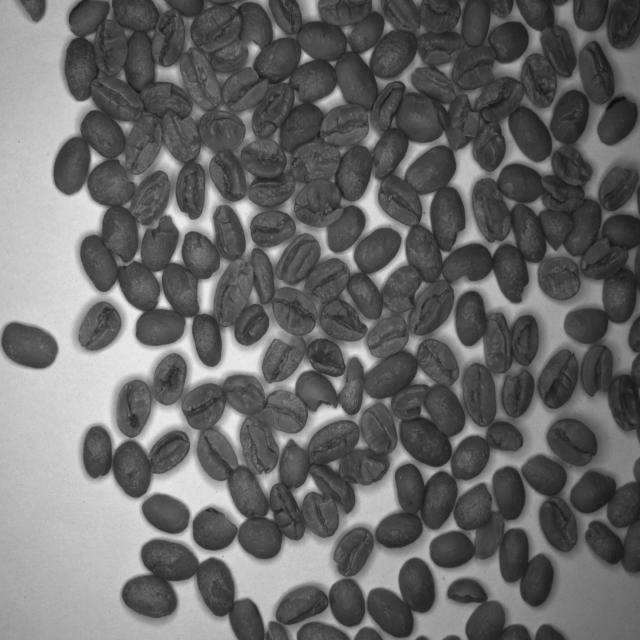bad: (469, 175, 514, 246), (212, 256, 255, 328), (178, 46, 222, 112), (396, 90, 450, 143), (407, 279, 456, 336), (535, 346, 579, 409), (90, 74, 145, 124), (575, 38, 615, 106), (308, 460, 356, 516), (429, 184, 467, 254), (293, 176, 345, 227), (238, 414, 280, 477), (188, 6, 243, 54), (254, 387, 310, 434), (218, 64, 269, 115), (376, 173, 423, 228), (474, 74, 525, 124), (86, 157, 136, 208), (461, 361, 499, 428), (124, 113, 165, 175), (274, 232, 321, 286), (116, 258, 162, 313), (537, 495, 579, 555), (270, 284, 318, 336), (279, 100, 325, 154), (415, 335, 461, 389), (251, 81, 295, 137), (319, 294, 368, 344), (308, 419, 360, 466), (129, 168, 171, 226), (160, 261, 202, 319), (492, 242, 530, 306), (289, 141, 342, 186), (139, 214, 180, 272), (77, 300, 121, 354), (101, 203, 139, 265), (116, 378, 154, 440), (318, 103, 370, 148), (578, 237, 630, 282), (331, 526, 376, 578), (196, 428, 239, 482), (550, 86, 590, 144), (304, 256, 351, 305), (197, 107, 247, 153), (269, 481, 306, 543), (520, 50, 558, 110), (159, 109, 201, 163), (596, 94, 638, 148), (360, 400, 399, 458), (536, 254, 583, 302), (192, 505, 238, 554), (261, 334, 306, 384), (140, 80, 193, 122), (569, 468, 617, 514), (288, 60, 337, 105), (538, 23, 578, 78), (180, 228, 221, 281), (441, 242, 494, 283), (520, 451, 567, 497), (370, 126, 410, 180), (212, 203, 248, 263), (275, 584, 329, 624), (381, 263, 424, 313), (369, 78, 406, 136), (597, 163, 639, 214), (136, 306, 187, 348), (453, 288, 488, 349), (338, 448, 391, 488), (549, 143, 595, 189), (92, 19, 128, 77), (151, 351, 188, 407), (148, 428, 192, 475), (208, 149, 247, 202), (607, 372, 640, 434), (470, 119, 507, 174), (451, 46, 497, 90), (326, 204, 367, 253), (446, 92, 480, 151), (300, 490, 340, 540), (483, 310, 514, 374), (366, 313, 410, 358), (500, 368, 538, 420), (409, 64, 456, 106), (538, 172, 586, 213), (249, 208, 298, 248), (453, 482, 493, 531), (222, 372, 266, 416), (174, 160, 206, 220), (584, 518, 624, 566), (580, 342, 614, 398), (295, 369, 338, 413), (416, 30, 466, 67), (536, 207, 575, 254), (81, 424, 113, 481), (277, 437, 310, 492), (237, 1, 273, 51), (233, 299, 270, 346), (472, 509, 506, 560), (509, 313, 541, 367), (464, 599, 506, 640), (306, 336, 346, 379), (247, 173, 296, 208), (606, 0, 639, 51), (337, 355, 364, 417), (347, 12, 385, 56), (389, 383, 430, 422), (417, 0, 461, 36), (249, 246, 275, 306), (111, 0, 159, 32), (69, 0, 110, 37), (317, 0, 373, 27), (379, 0, 421, 35), (486, 419, 525, 454), (266, 0, 303, 36), (445, 576, 489, 606), (570, 0, 610, 32), (19, 0, 48, 23), (264, 617, 291, 640), (486, 0, 514, 19)
good: (0, 318, 60, 371), (398, 415, 453, 469), (544, 416, 598, 469), (507, 103, 553, 164), (362, 349, 418, 399), (335, 51, 379, 114), (140, 538, 200, 584), (404, 143, 457, 195), (364, 584, 414, 639), (369, 28, 419, 80), (120, 574, 179, 618), (79, 232, 120, 294), (111, 438, 152, 500), (196, 555, 236, 618), (79, 108, 126, 161), (294, 19, 348, 65), (508, 202, 548, 263), (420, 468, 458, 532), (334, 144, 374, 204), (353, 226, 403, 274), (180, 381, 227, 432), (561, 199, 603, 256), (52, 135, 91, 196), (63, 35, 99, 101), (600, 264, 638, 326), (405, 222, 443, 284), (227, 463, 269, 519), (253, 36, 302, 83), (397, 556, 436, 614), (491, 463, 528, 524), (237, 514, 284, 562), (239, 135, 288, 181), (426, 382, 466, 438), (150, 8, 187, 66), (518, 550, 555, 608), (373, 509, 424, 551), (496, 161, 544, 205), (428, 528, 476, 572), (141, 492, 190, 535), (124, 30, 156, 93), (561, 304, 610, 345), (328, 577, 366, 629), (450, 433, 491, 481), (498, 526, 530, 585), (487, 19, 530, 62), (192, 311, 224, 368), (394, 461, 426, 517), (348, 271, 383, 321), (605, 478, 640, 528), (228, 594, 265, 640), (460, 0, 492, 50), (600, 211, 640, 249), (515, 0, 556, 33), (293, 619, 353, 640), (621, 518, 640, 572), (498, 620, 532, 640), (534, 620, 567, 640)
